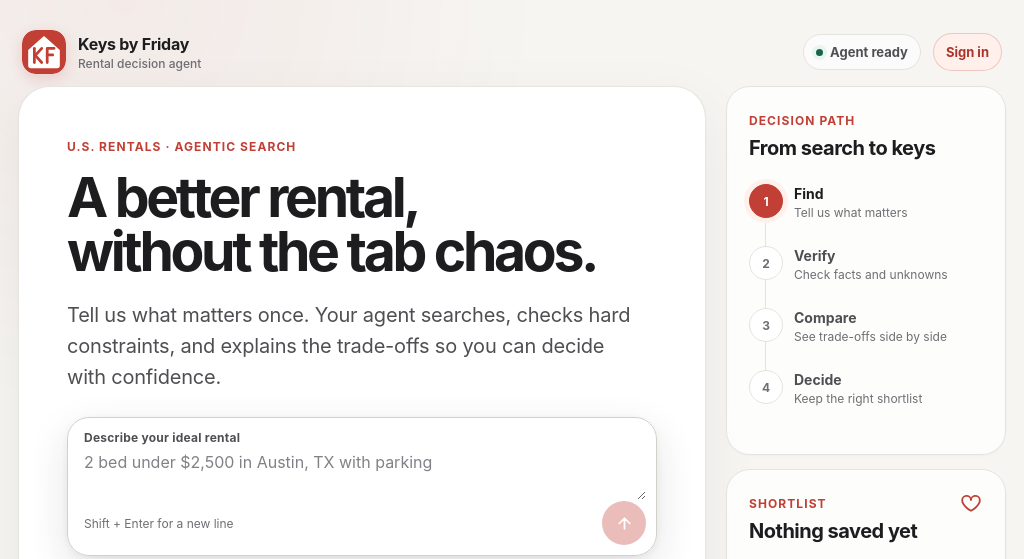
Test: loads deterministic comparison facts and the Agent explanation
This screenshot has width=1024, height=559.
Type "Find two homes" into the text box labelled "Describe your ideal rental" at (365, 473), box left=84, top=445, right=646, bottom=500
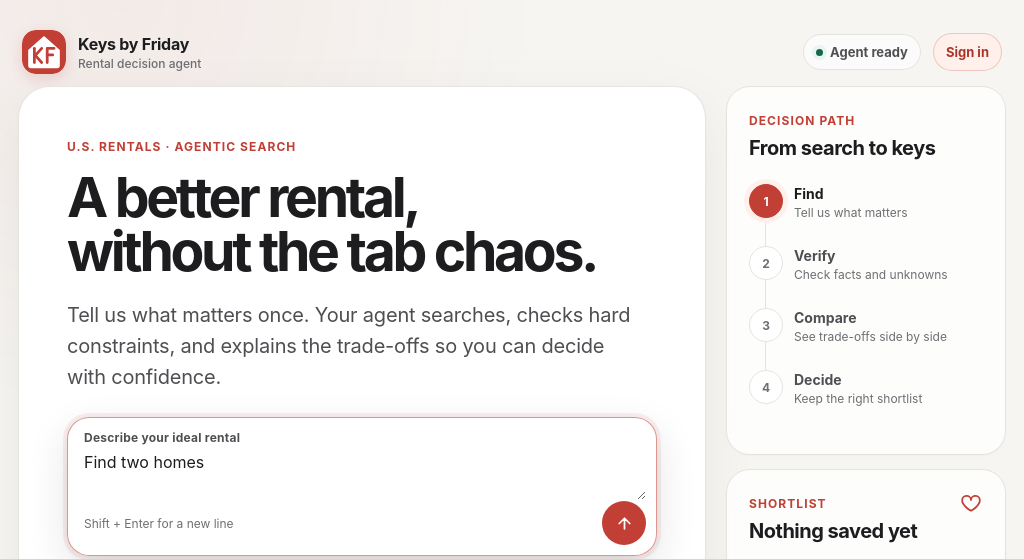
Click the button named "Ask rental agent" at (624, 523), box left=602, top=501, right=646, bottom=545
(page scrolled)
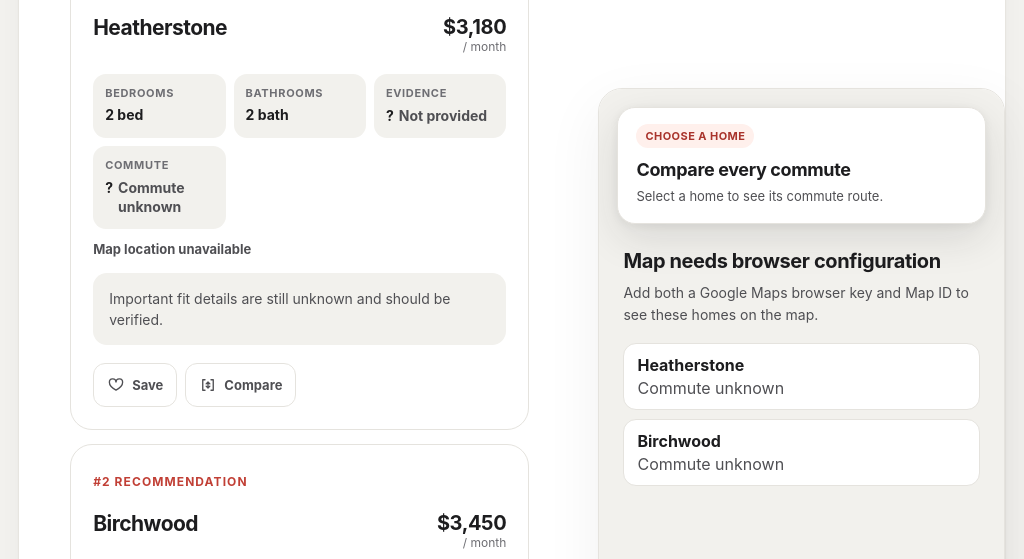
Click the button "Compare" at (241, 385), box left=185, top=363, right=296, bottom=407
(page scrolled)
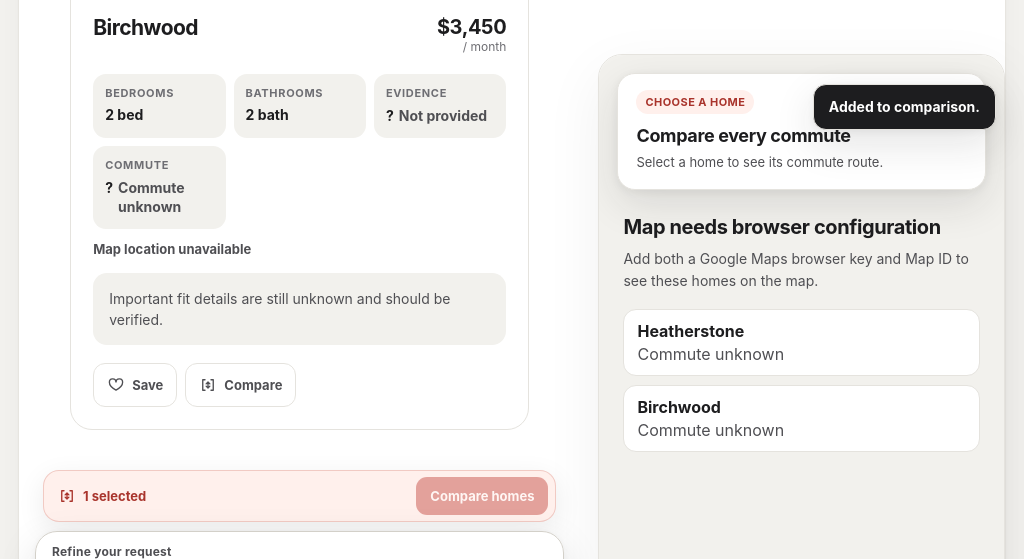
Click the button "Compare" at (241, 385), box left=185, top=363, right=296, bottom=407
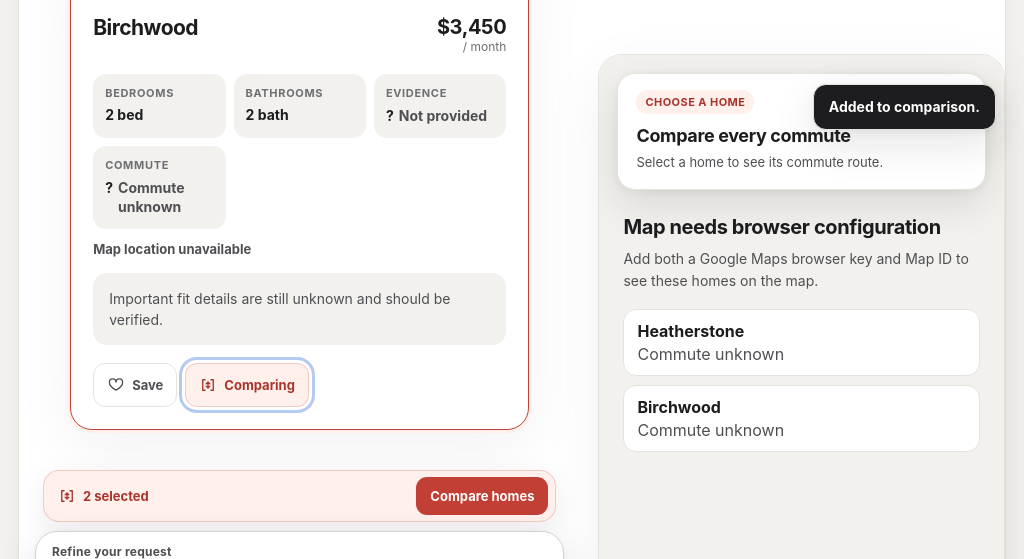
Click the button "Compare homes" at (482, 496), box left=416, top=477, right=548, bottom=515
(page scrolled)
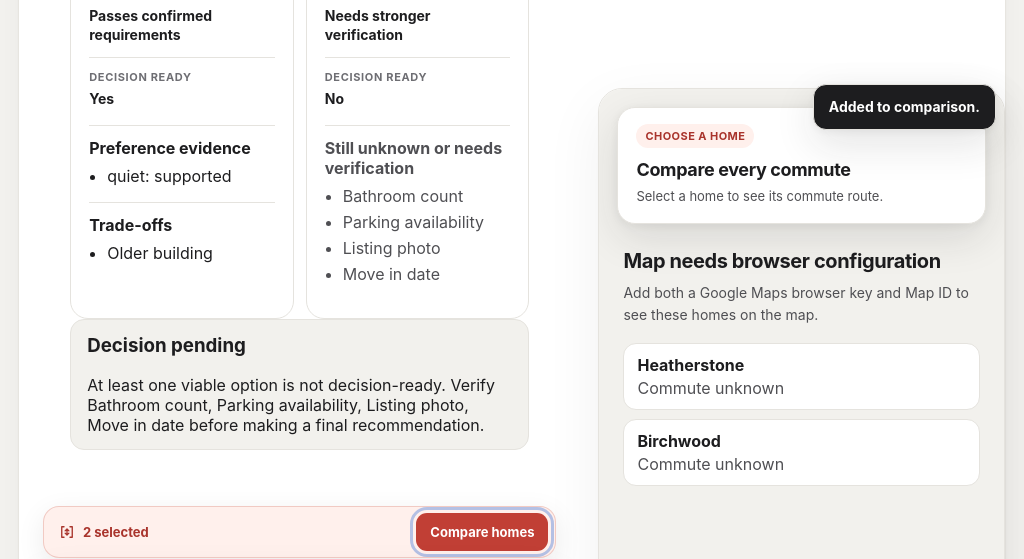
Expected: the text "Passes confirmed requirements" is shown, left=89, top=7, right=212, bottom=43
Expected: the text "Needs stronger verification" is shown, left=325, top=7, right=431, bottom=43
Expected: the list item "Parking availability" is shown, left=343, top=212, right=484, bottom=232
